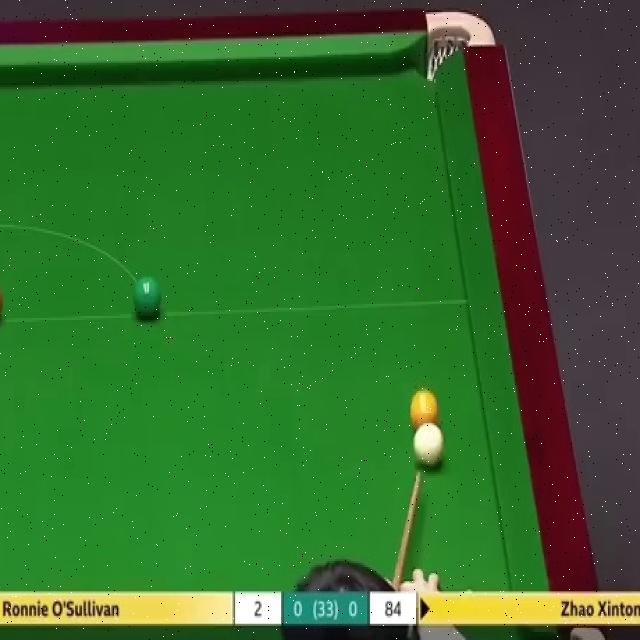green-ball: (132, 277, 161, 318)
white-ball: (414, 424, 444, 464)
yellow-ball: (411, 391, 438, 424)
